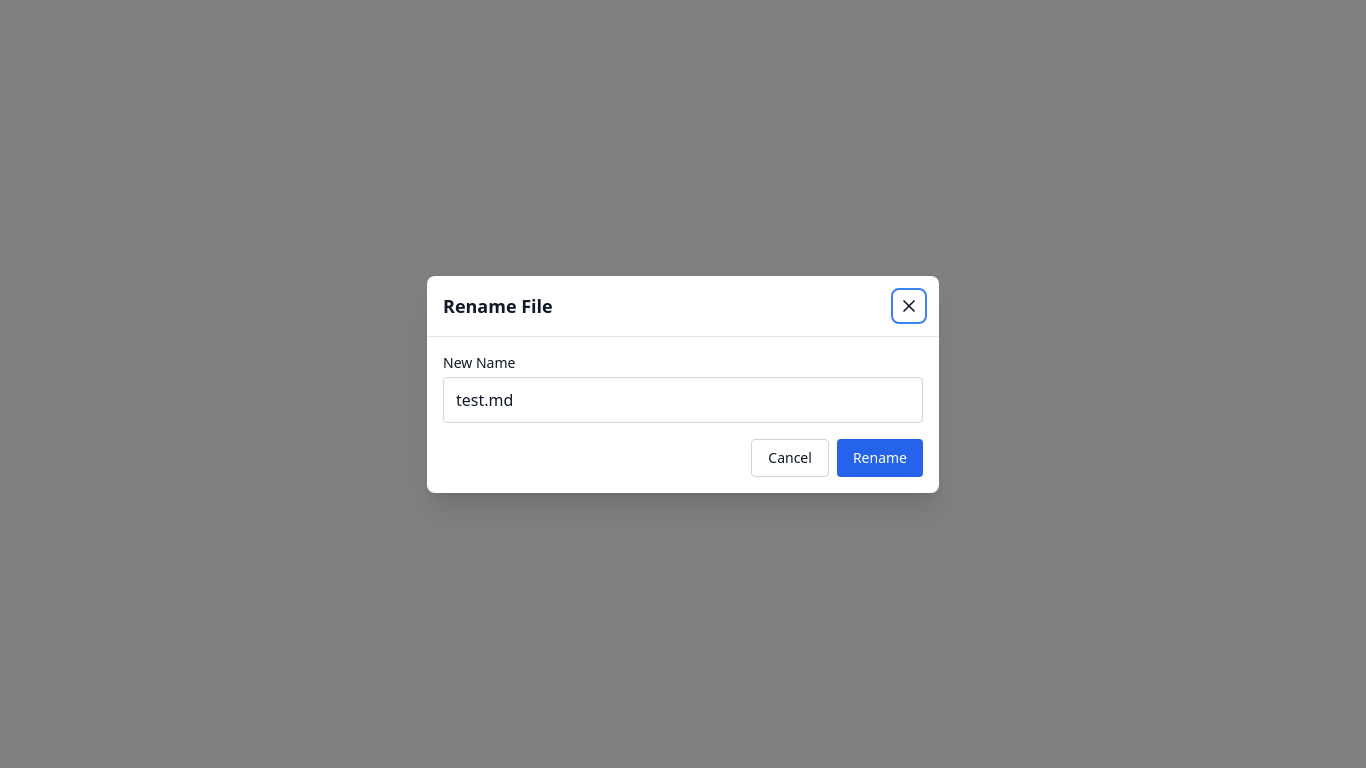
Test case: RenameDialog › shows error for invalid characters
The image size is (1366, 768).
Replace the text in the field labelled "New Name" with "invalid/name": {"x": 683, "y": 400} [443,376,923,422]
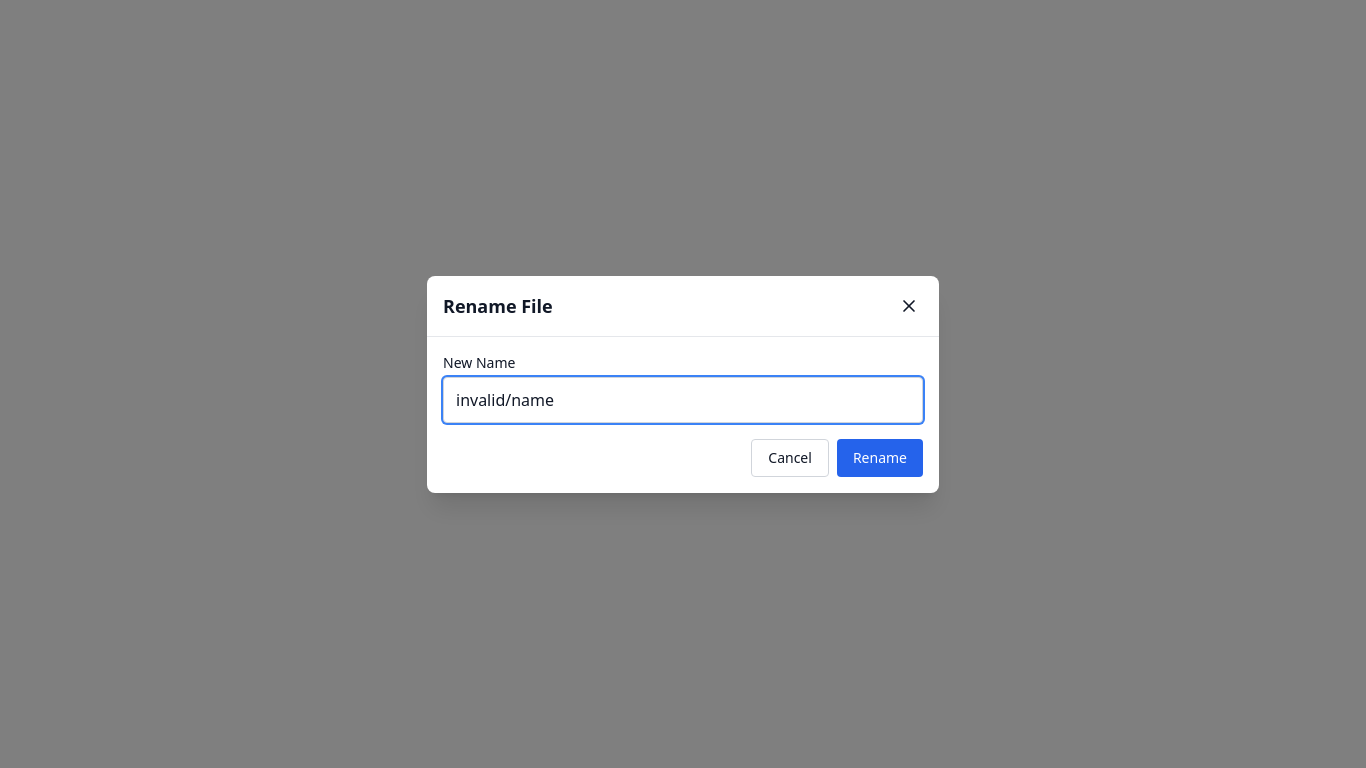
Click the button "Rename": {"x": 880, "y": 458} [837,438,923,476]
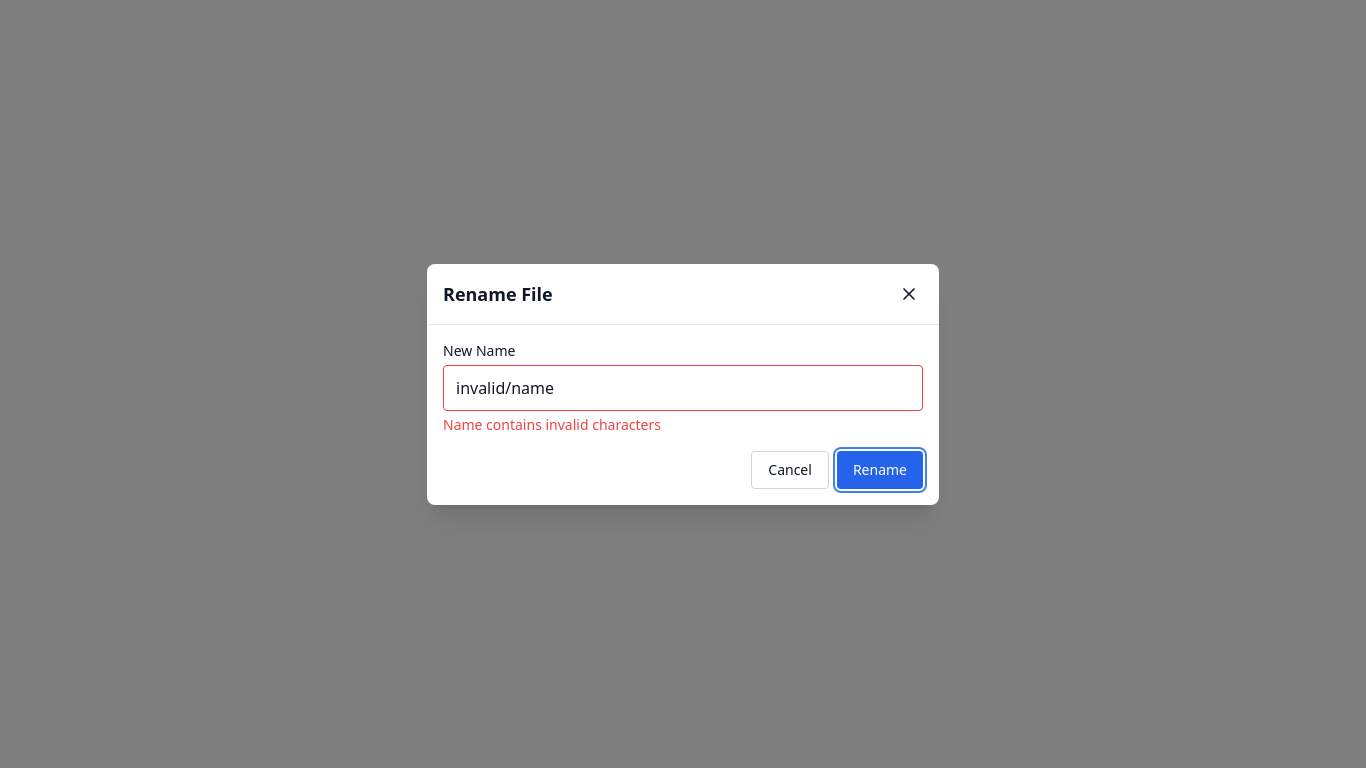
Expected: the text "Name contains invalid characters" is shown, [443,414,661,434]
